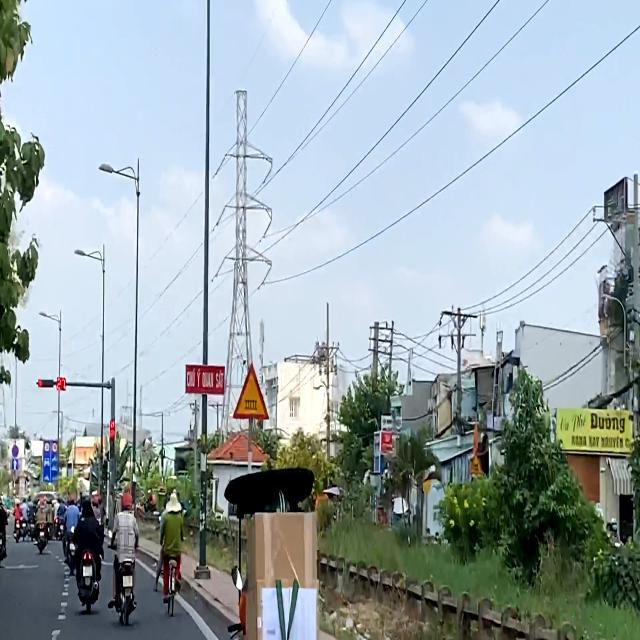W.210: (232, 363, 270, 420)
